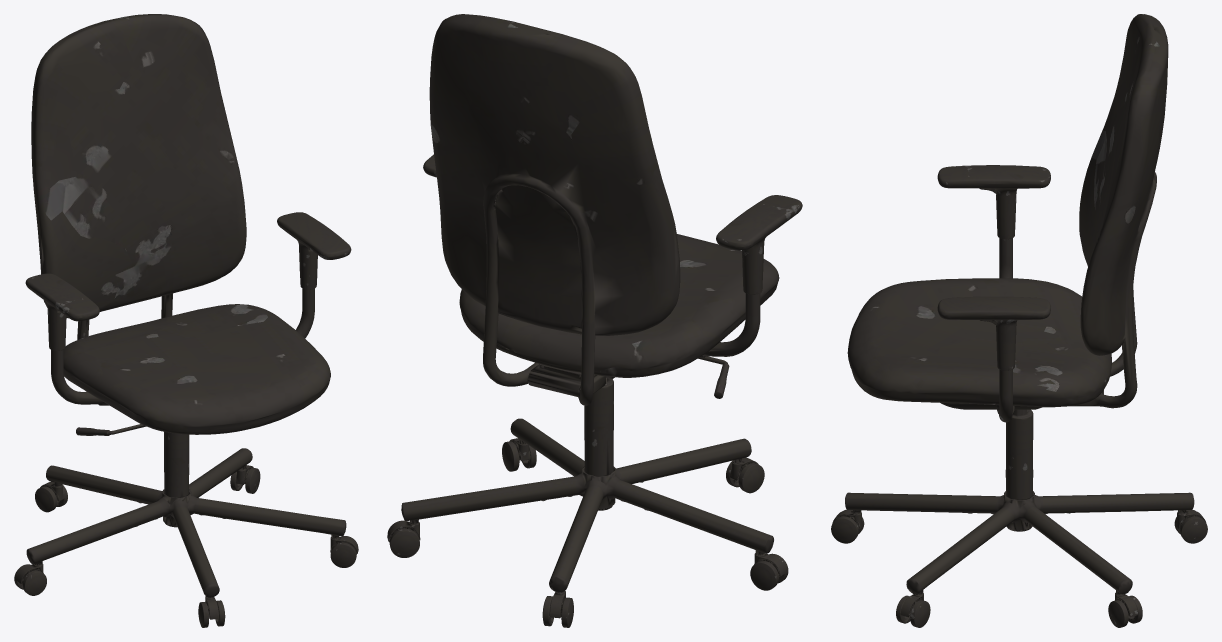
File: SMÖRKULL uredska stolica s naslonima za ruke - Gräsnäs tamno siva.fbx
3 views of the same model, side by side, from view 1: azimuth 30°, elevation 25°; view 2: azimuth 150°, elevation 25°; view 3: azimuth 270°, elevation 25° (orthographic). The views are drawn at different scales.
Parts seen in each view (by area): view 1: ASY_LPT12_80503436_S01_NV01, ASY_LPT07_80503436_S01_NV01, ASY_ART_80503436_S01_NV01, ASY_LPT08_80503436_S01_NV01, ASY_LPT09_80503436_S01_NV01, ASY_LPT06_80503436_S01_NV01, ASY_LPT05_80503436_S01_NV01, ASY_LPT02_80503436_S01_NV01, ASY_LPT04_80503436_S01_NV01, ASY_LPT01_80503436_S01_NV01, ASY_LPT03_80503436_S01_NV01; view 2: ASY_LPT12_80503436_S01_NV01, ASY_LPT07_80503436_S01_NV01, ASY_ART_80503436_S01_NV01, ASY_LPT08_80503436_S01_NV01, ASY_LPT06_80503436_S01_NV01, ASY_LPT05_80503436_S01_NV01, ASY_LPT03_80503436_S01_NV01, ASY_LPT01_80503436_S01_NV01, ASY_LPT04_80503436_S01_NV01, ASY_LPT02_80503436_S01_NV01; view 3: ASY_LPT07_80503436_S01_NV01, ASY_LPT12_80503436_S01_NV01, ASY_ART_80503436_S01_NV01, ASY_LPT08_80503436_S01_NV01, ASY_LPT09_80503436_S01_NV01, ASY_LPT06_80503436_S01_NV01, ASY_LPT02_80503436_S01_NV01, ASY_LPT03_80503436_S01_NV01, ASY_LPT04_80503436_S01_NV01, ASY_LPT01_80503436_S01_NV01.
Boxes of the visible parts, x1=… form: ASY_LPT12_80503436_S01_NV01: x1=31, y1=14, x2=246, y2=339; ASY_LPT07_80503436_S01_NV01: x1=51, y1=288, x2=330, y2=435; ASY_ART_80503436_S01_NV01: x1=26, y1=448, x2=346, y2=597; ASY_LPT08_80503436_S01_NV01: x1=25, y1=273, x2=99, y2=350; ASY_LPT09_80503436_S01_NV01: x1=277, y1=212, x2=351, y2=289; ASY_LPT06_80503436_S01_NV01: x1=164, y1=431, x2=189, y2=527; ASY_LPT05_80503436_S01_NV01: x1=14, y1=563, x2=46, y2=595; ASY_LPT02_80503436_S01_NV01: x1=330, y1=536, x2=358, y2=567; ASY_LPT04_80503436_S01_NV01: x1=35, y1=481, x2=67, y2=512; ASY_LPT01_80503436_S01_NV01: x1=198, y1=596, x2=225, y2=627; ASY_LPT03_80503436_S01_NV01: x1=230, y1=465, x2=260, y2=493; ASY_LPT12_80503436_S01_NV01: x1=429, y1=14, x2=680, y2=405; ASY_LPT07_80503436_S01_NV01: x1=459, y1=234, x2=779, y2=398; ASY_ART_80503436_S01_NV01: x1=401, y1=418, x2=773, y2=592; ASY_LPT08_80503436_S01_NV01: x1=716, y1=195, x2=802, y2=294; ASY_LPT06_80503436_S01_NV01: x1=584, y1=377, x2=613, y2=510; ASY_LPT05_80503436_S01_NV01: x1=750, y1=553, x2=788, y2=590; ASY_LPT03_80503436_S01_NV01: x1=387, y1=520, x2=420, y2=557; ASY_LPT01_80503436_S01_NV01: x1=726, y1=457, x2=764, y2=493; ASY_LPT04_80503436_S01_NV01: x1=542, y1=590, x2=573, y2=627; ASY_LPT02_80503436_S01_NV01: x1=502, y1=438, x2=536, y2=471; ASY_LPT07_80503436_S01_NV01: x1=847, y1=238, x2=1111, y2=422; ASY_LPT12_80503436_S01_NV01: x1=1072, y1=14, x2=1168, y2=408; ASY_ART_80503436_S01_NV01: x1=845, y1=491, x2=1194, y2=594; ASY_LPT08_80503436_S01_NV01: x1=937, y1=165, x2=1050, y2=239; ASY_LPT09_80503436_S01_NV01: x1=937, y1=296, x2=1050, y2=370; ASY_LPT06_80503436_S01_NV01: x1=1006, y1=409, x2=1033, y2=531; ASY_LPT02_80503436_S01_NV01: x1=896, y1=593, x2=930, y2=627; ASY_LPT03_80503436_S01_NV01: x1=1108, y1=592, x2=1142, y2=627; ASY_LPT04_80503436_S01_NV01: x1=1174, y1=509, x2=1207, y2=543; ASY_LPT01_80503436_S01_NV01: x1=831, y1=509, x2=864, y2=543.
Size of the model in its own units: 67.41 by 105 by 68.6.
Materials: 13 (13 with a texture image).
